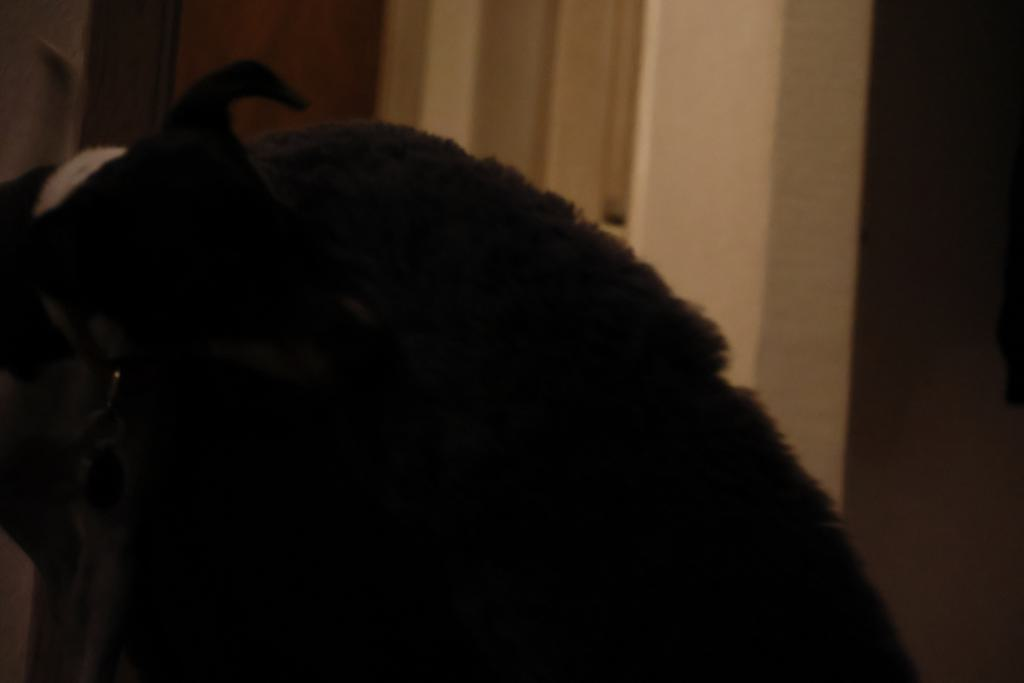Dog: (0, 42, 402, 597)
